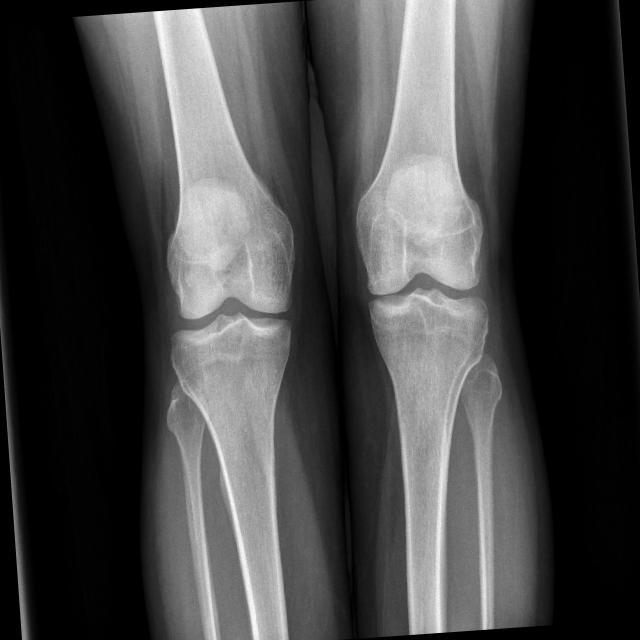Knee: (158, 248, 302, 382), (353, 230, 491, 352)
